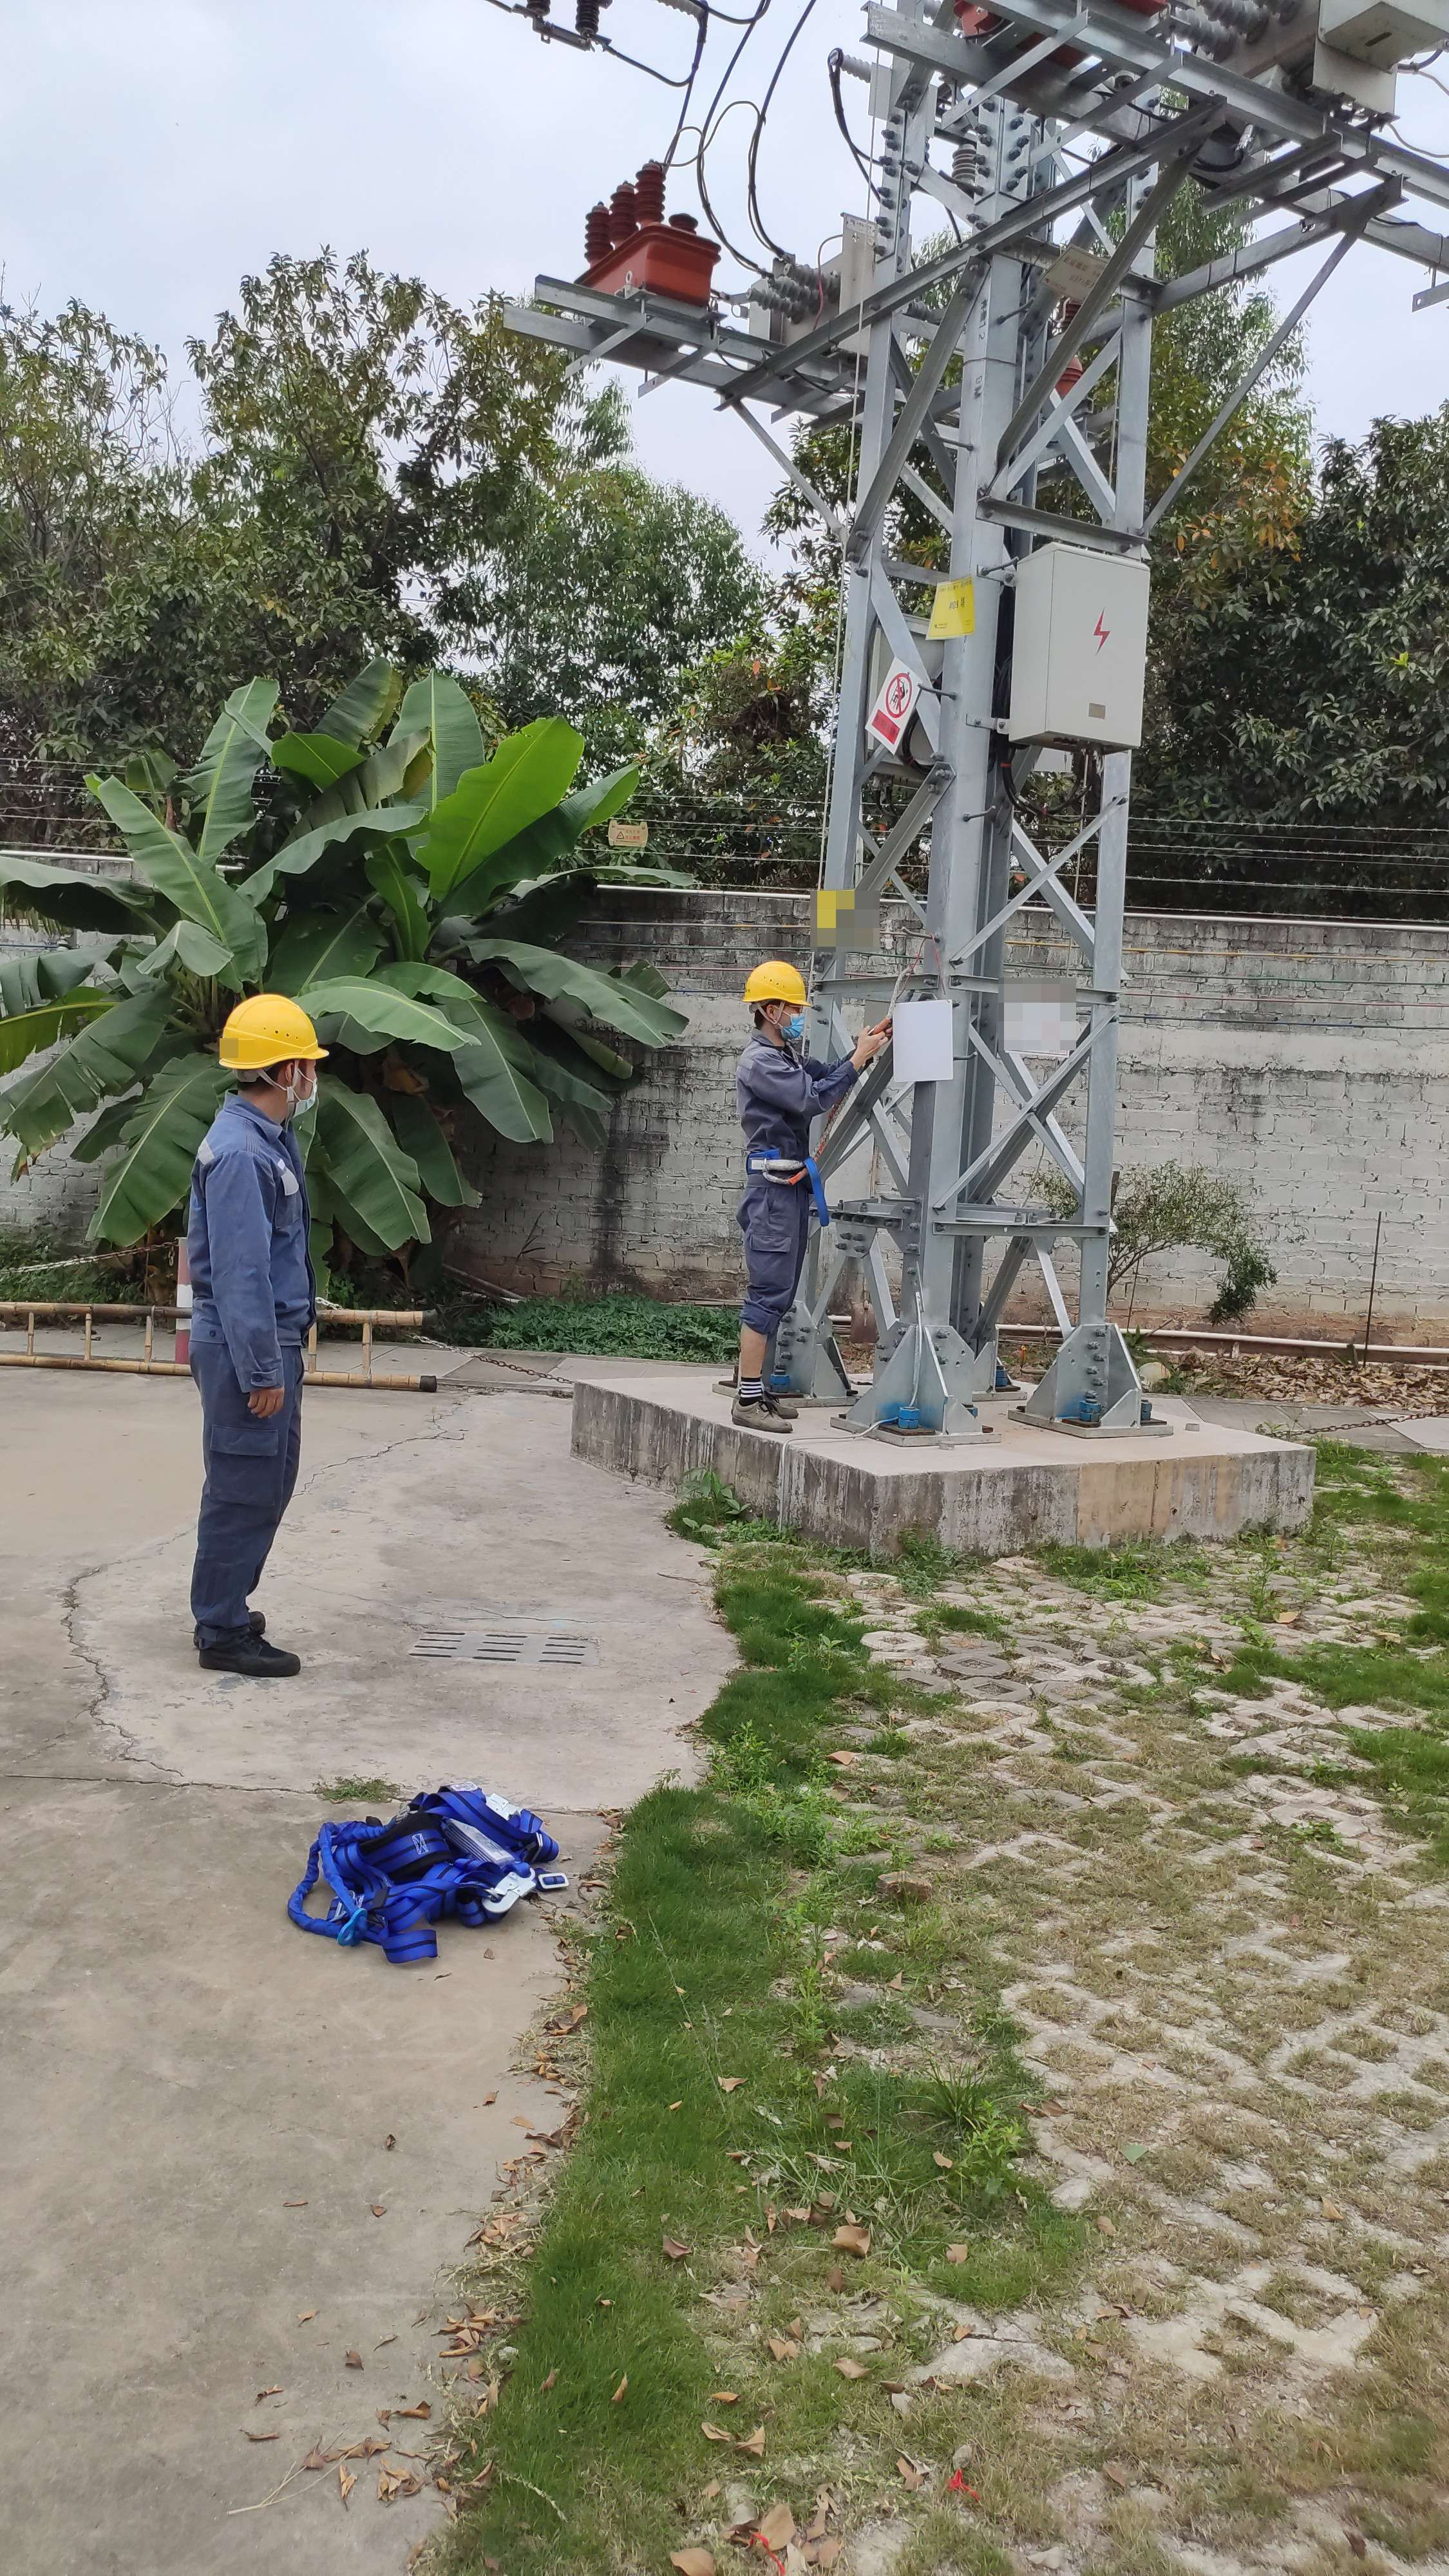downsuit: (196, 1362, 295, 1617), (741, 1192, 807, 1336)
upsuit: (193, 1122, 317, 1348), (743, 1051, 814, 1169)
wrongbottom: (727, 1309, 777, 1401)
